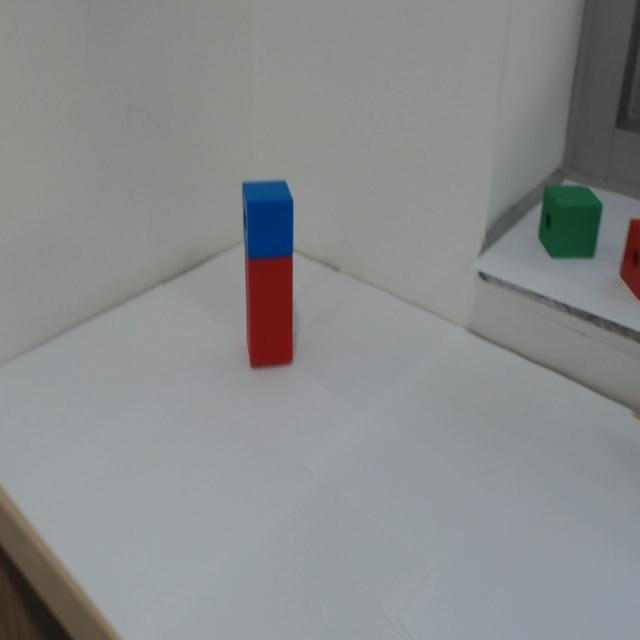cube: (226, 180, 309, 259)
